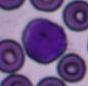L: (22, 18, 67, 64)
